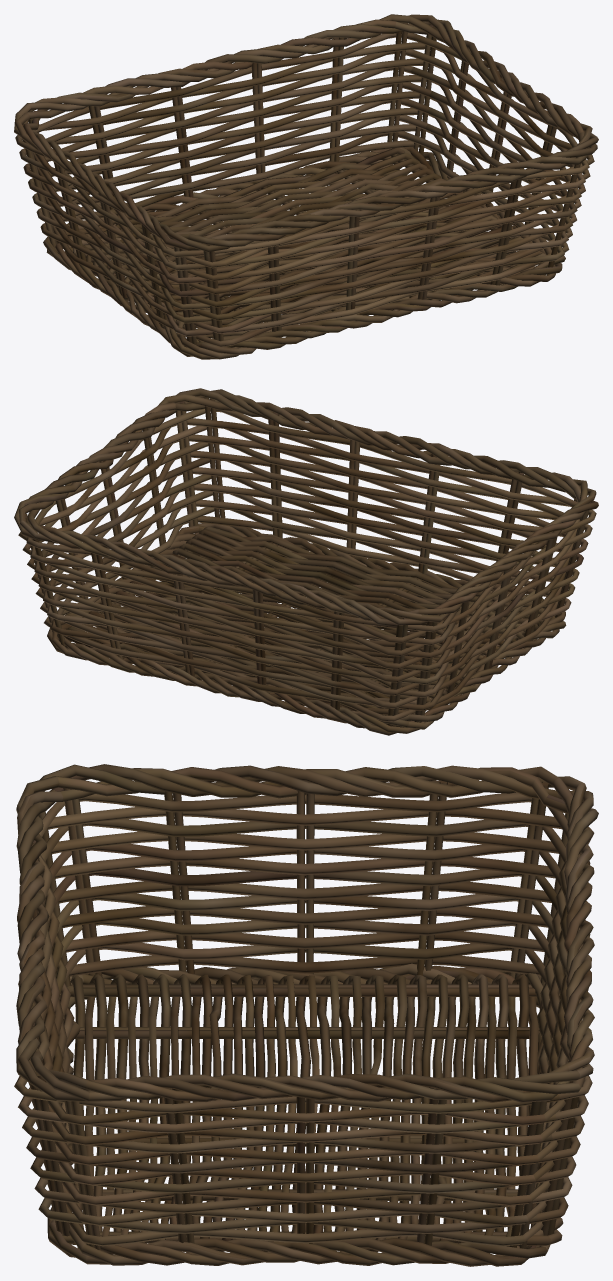
File: wicker_basket_01.glb
3 renders of one model, top to bottom at view 1: azimuth 30°, elevation 25°; view 2: azimuth 150°, elevation 25°; view 3: azimuth 270°, elevation 25°, orthographic. The views are drawn at different scales.
Parts seen in each view (by area): view 1: wicker_basket_01; view 2: wicker_basket_01; view 3: wicker_basket_01.
Boxes of the visible parts, x1=… form: wicker_basket_01: x1=14, y1=14, x2=598, y2=359; wicker_basket_01: x1=14, y1=388, x2=598, y2=735; wicker_basket_01: x1=14, y1=764, x2=598, y2=1266.
Bounding box in the file's own units: 0.3832 × 0.1174 × 0.295.
1 material, 1 textured.
